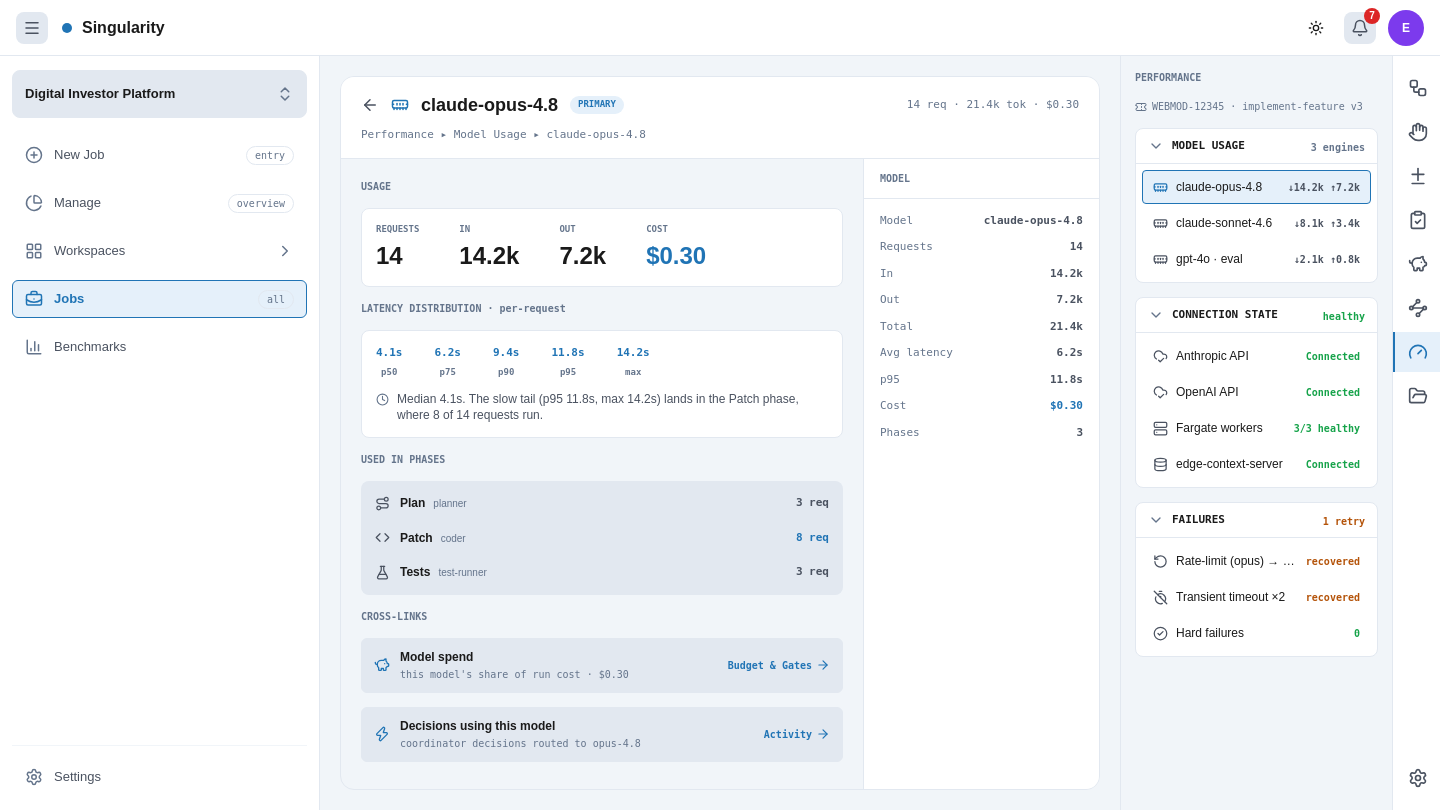
Performance section › cross-links to the decisions using this model
Expected: the heading "claude-opus-4.8" is shown, [421, 91, 558, 119]
What coordinates should you click on to do the following:
click the link "Decisions using this model"
I would click on:
 (478, 726)
Its box is [361, 706, 843, 762].
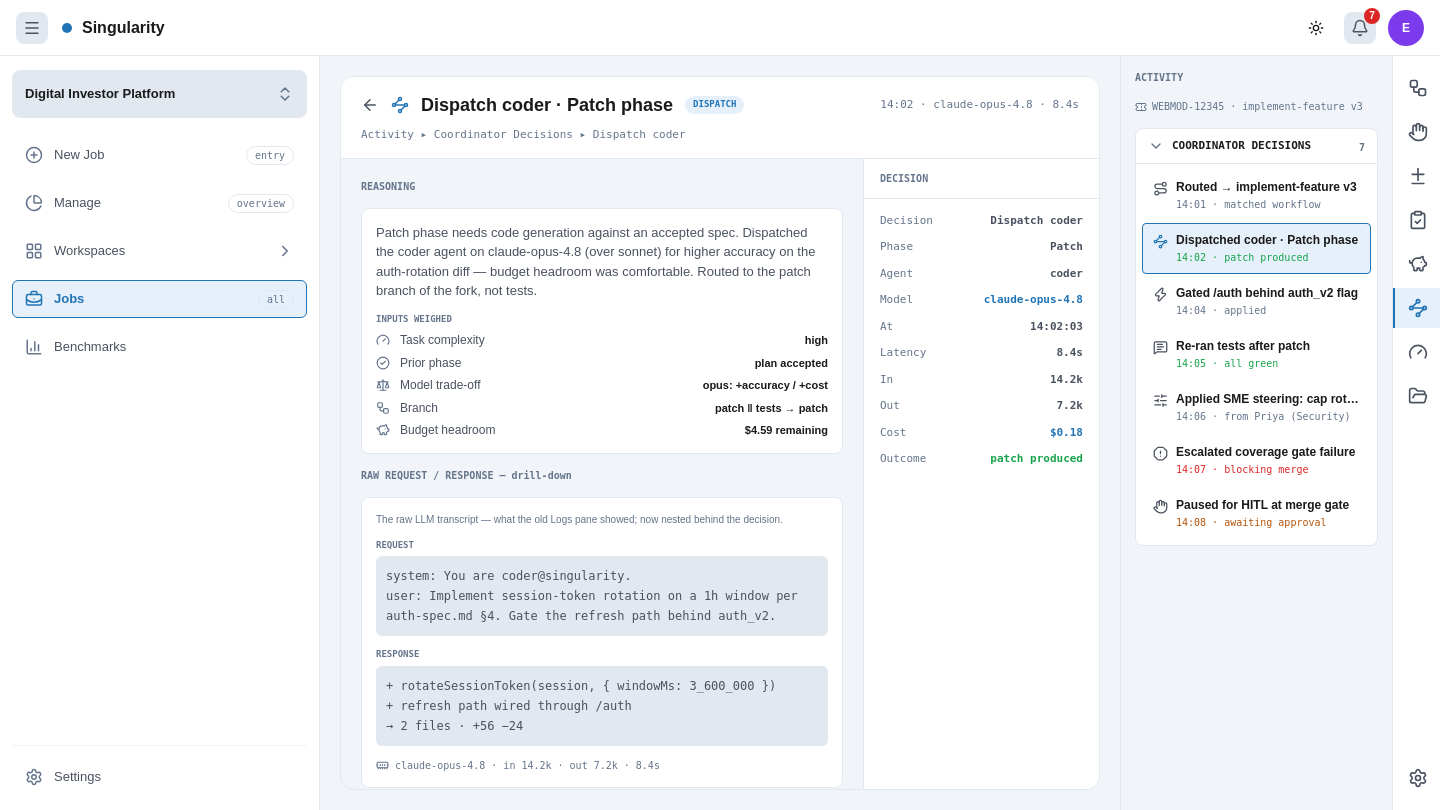
Now the heading "Dispatch coder · Patch phase" is shown, box [421, 91, 673, 119]
